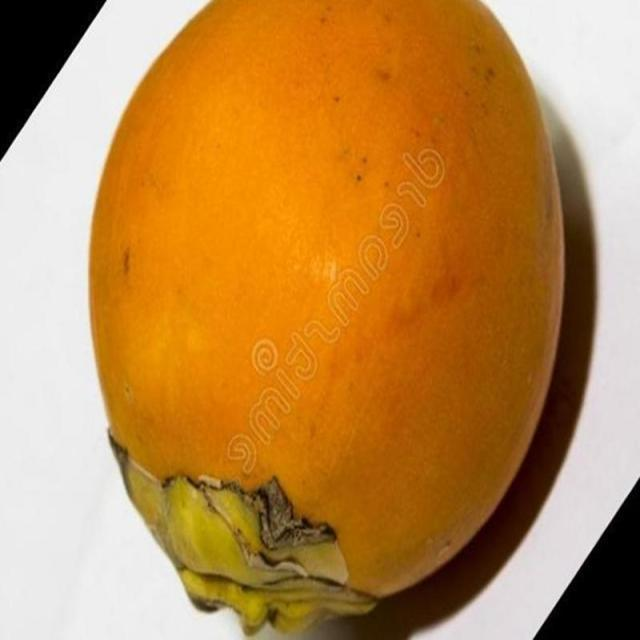good: (86, 0, 567, 639)
